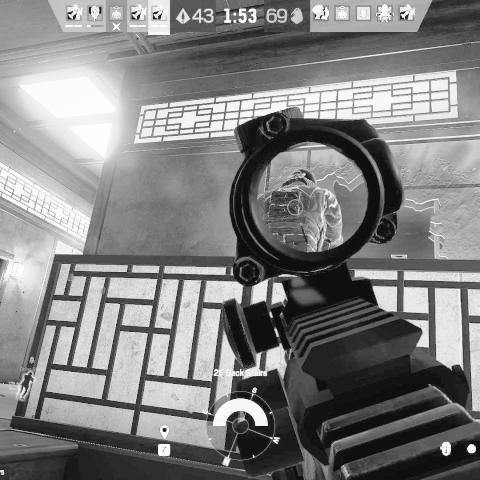Character: (256, 166, 344, 254)
Friend_label: (20, 356, 45, 372)
Head: (289, 168, 316, 184)
